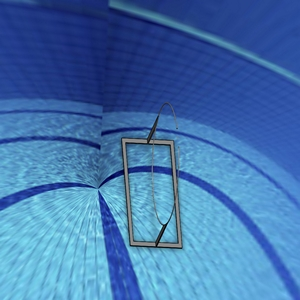circle: (119, 100, 184, 250)
